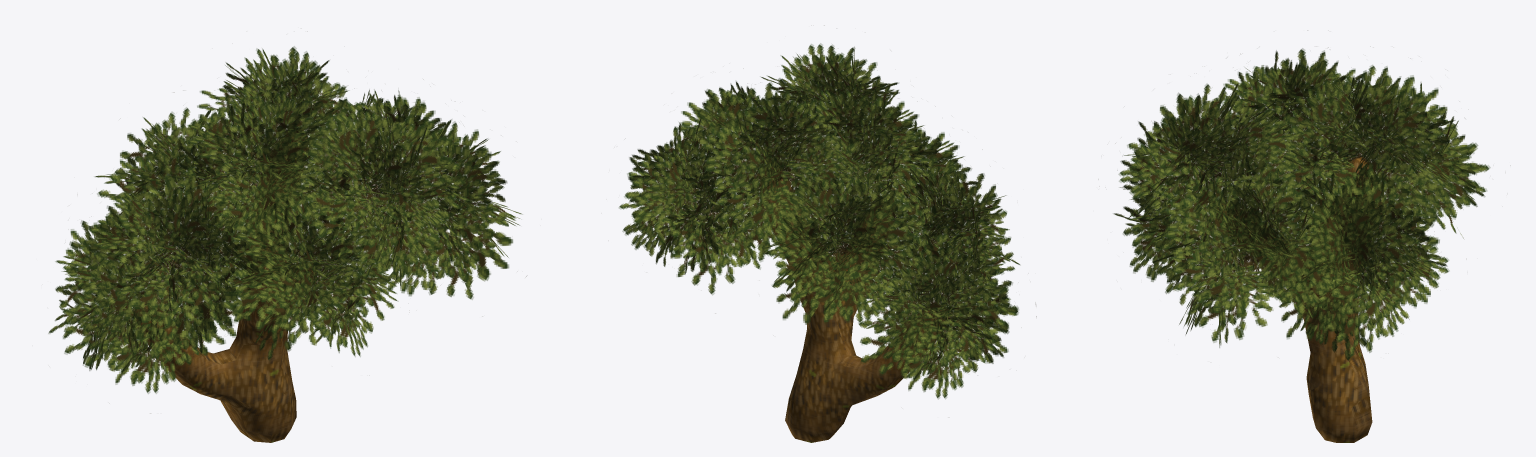
The model's file is Arbre2.glb.
3 renders of one model, left to right at view 1: azimuth 30°, elevation 25°; view 2: azimuth 150°, elevation 25°; view 3: azimuth 270°, elevation 25°, orthographic. The views are drawn at different scales.
Parts seen in each view (by area): view 1: Arbre.001; view 2: Arbre.001; view 3: Arbre.001.
Boxes of the visible parts, x1,y1,x2,y2 form: Arbre.001: [48, 46, 526, 442]; Arbre.001: [619, 43, 1036, 442]; Arbre.001: [1113, 48, 1490, 442].
Size of the model in its own units: 12.96 by 10.69 by 10.44.
2 materials, 2 textured.
